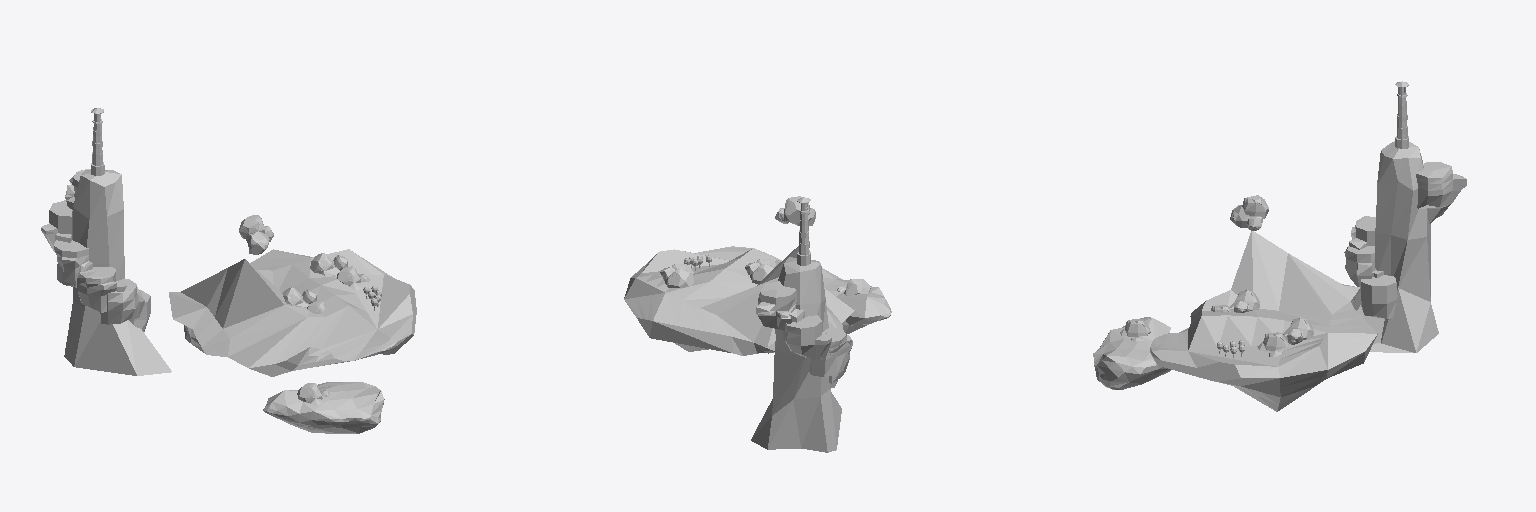
Rendered from light_house_island.obj.
3 views of the same model, side by side, from view 1: azimuth 30°, elevation 25°; view 2: azimuth 150°, elevation 25°; view 3: azimuth 270°, elevation 25° (orthographic).
Parts seen in each view (by area): view 1: obj0; view 2: obj0; view 3: obj0.
Boxes of the visible parts, x1=… form: obj0: x1=41, y1=108, x2=416, y2=433; obj0: x1=624, y1=196, x2=891, y2=452; obj0: x1=1093, y1=81, x2=1466, y2=411.
Bounding box in the file's own units: 32.58 × 28.43 × 37.85.